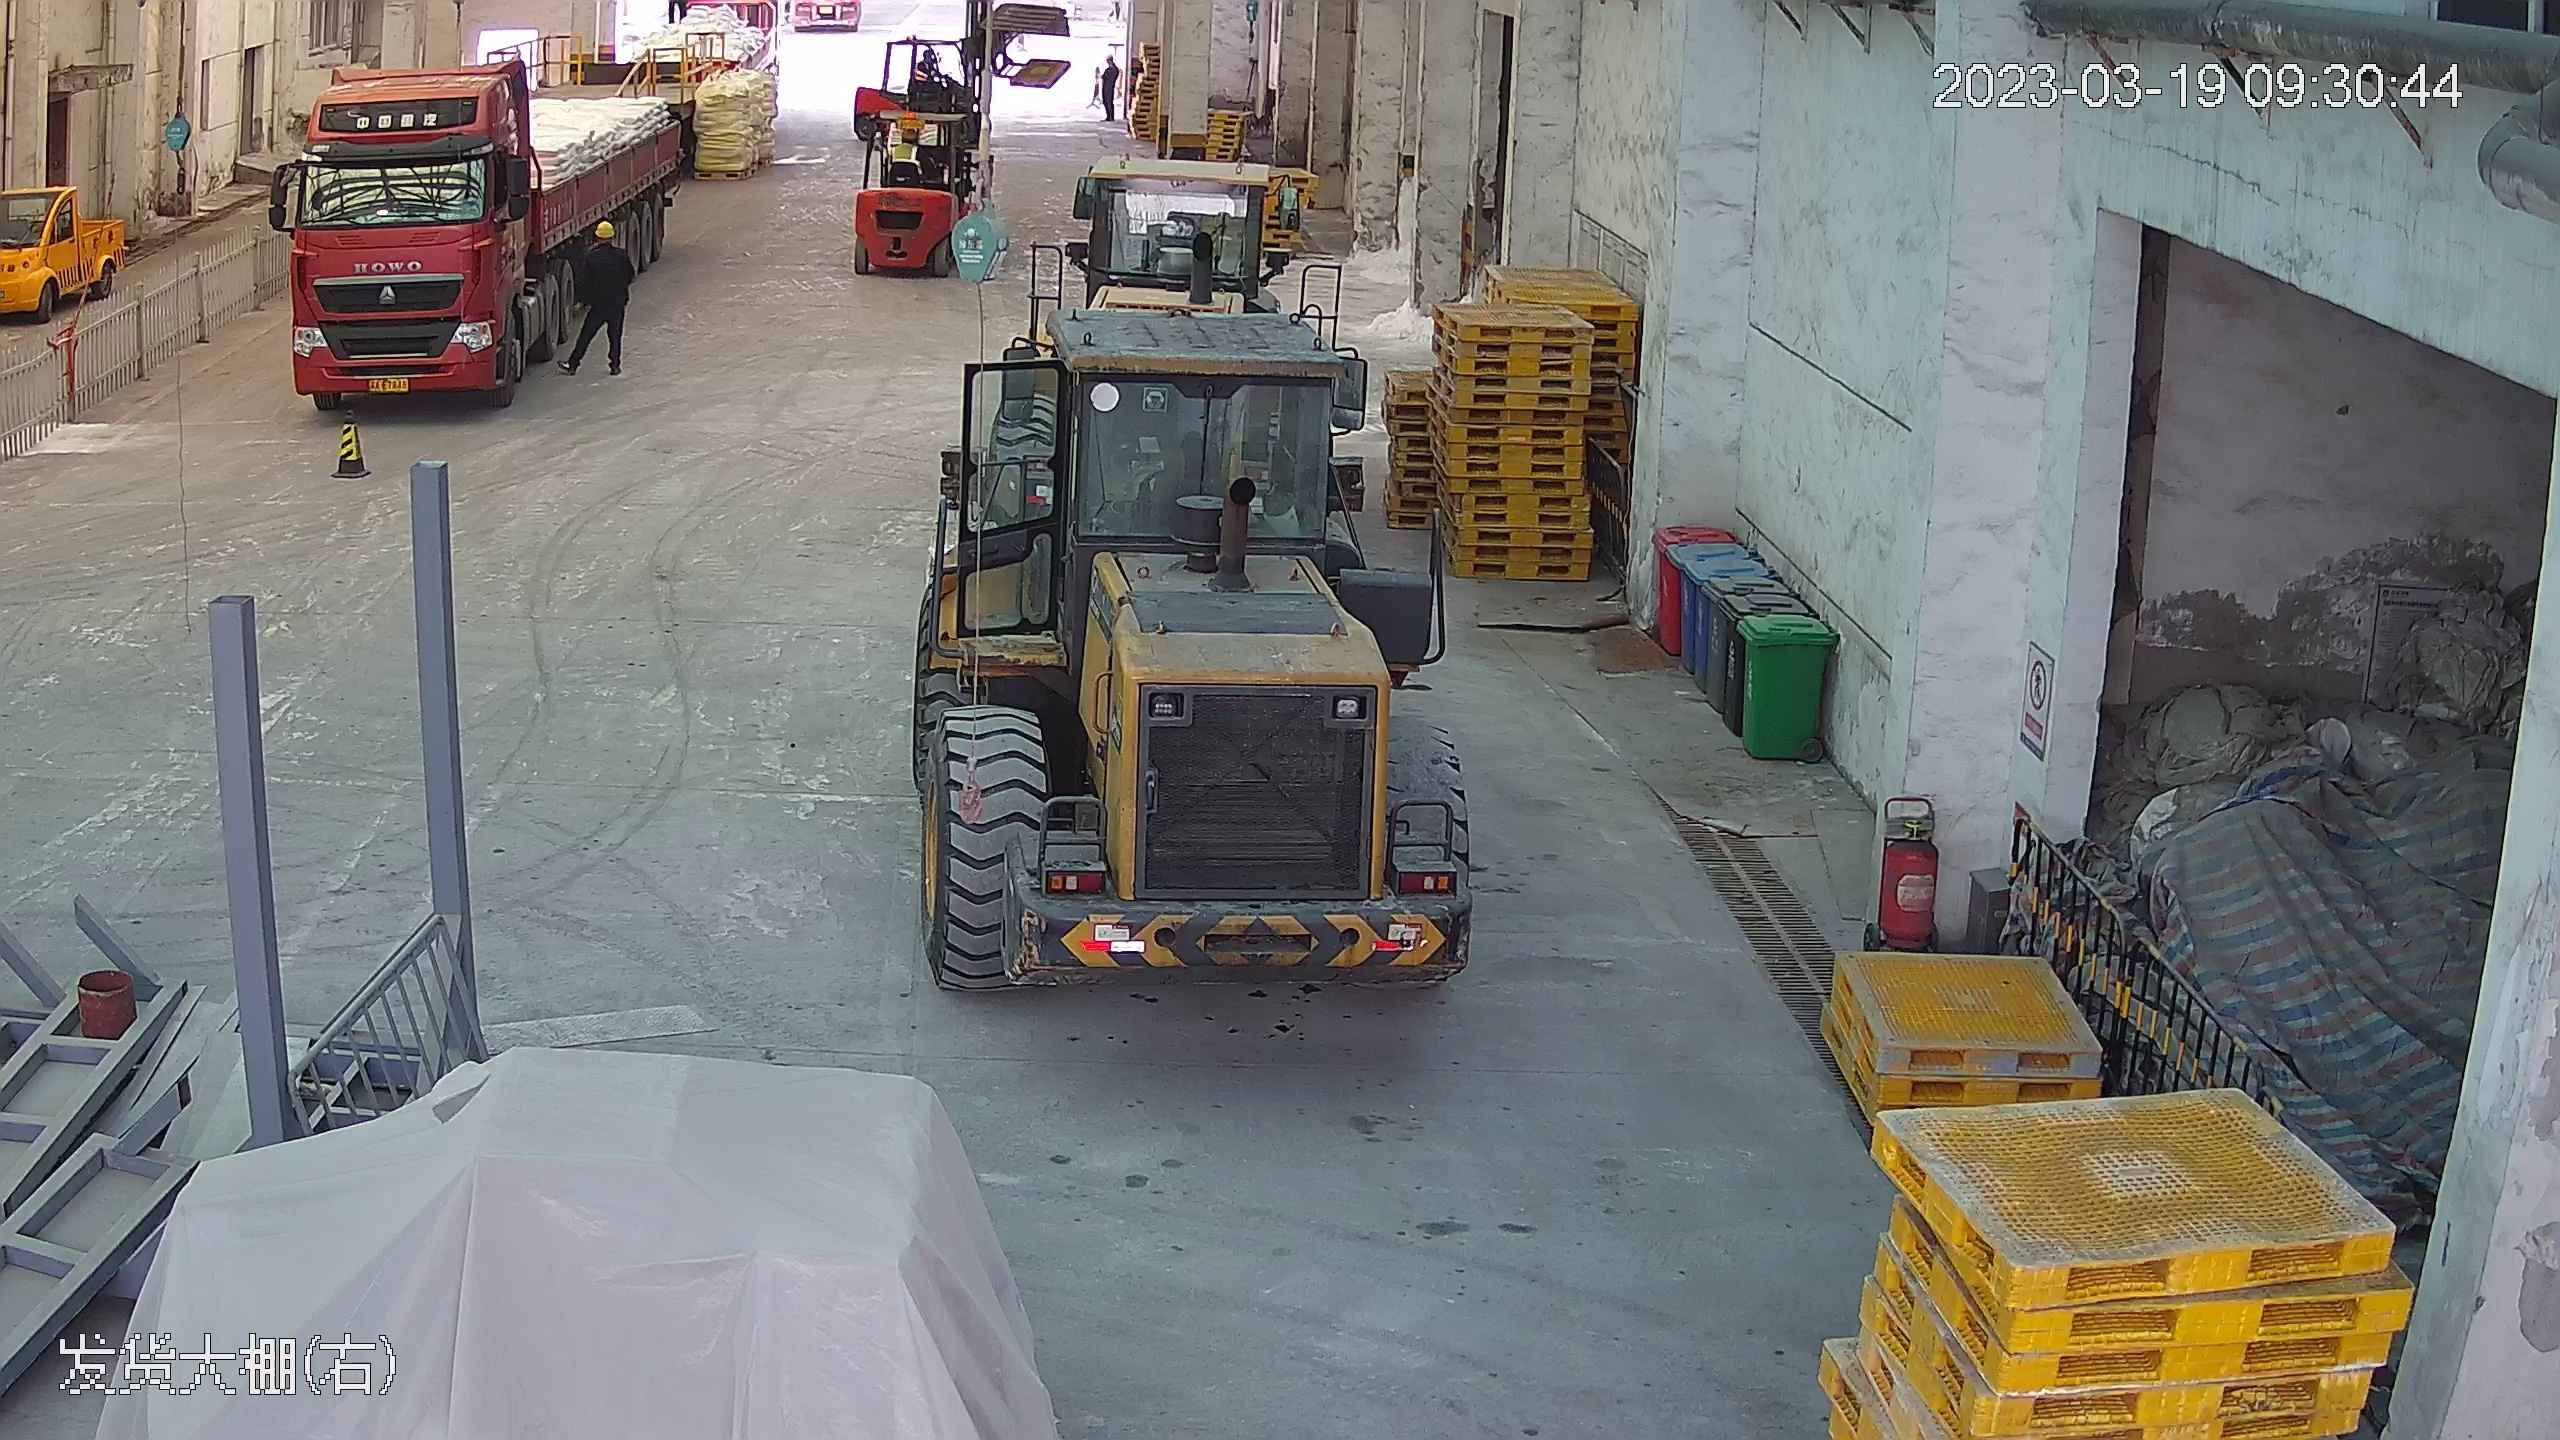head: (576, 216, 627, 266), (887, 122, 924, 166), (1102, 53, 1118, 79)
helmet: (590, 219, 615, 238), (901, 128, 919, 142), (1106, 54, 1115, 62)
people: (568, 217, 636, 383), (1097, 52, 1120, 121)
truck: (271, 24, 705, 422)
